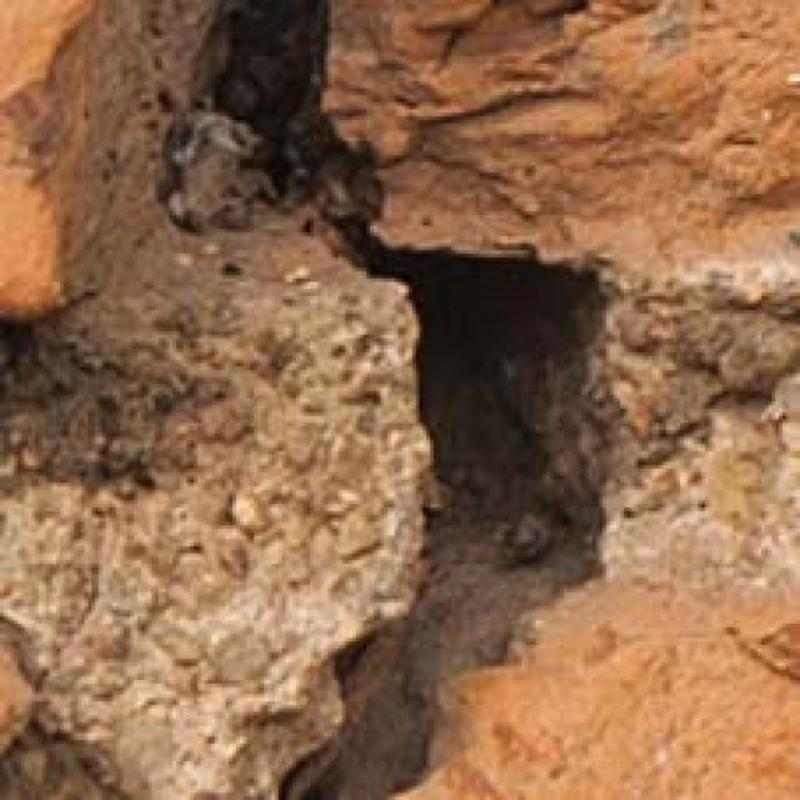crack: (212, 0, 609, 800)
